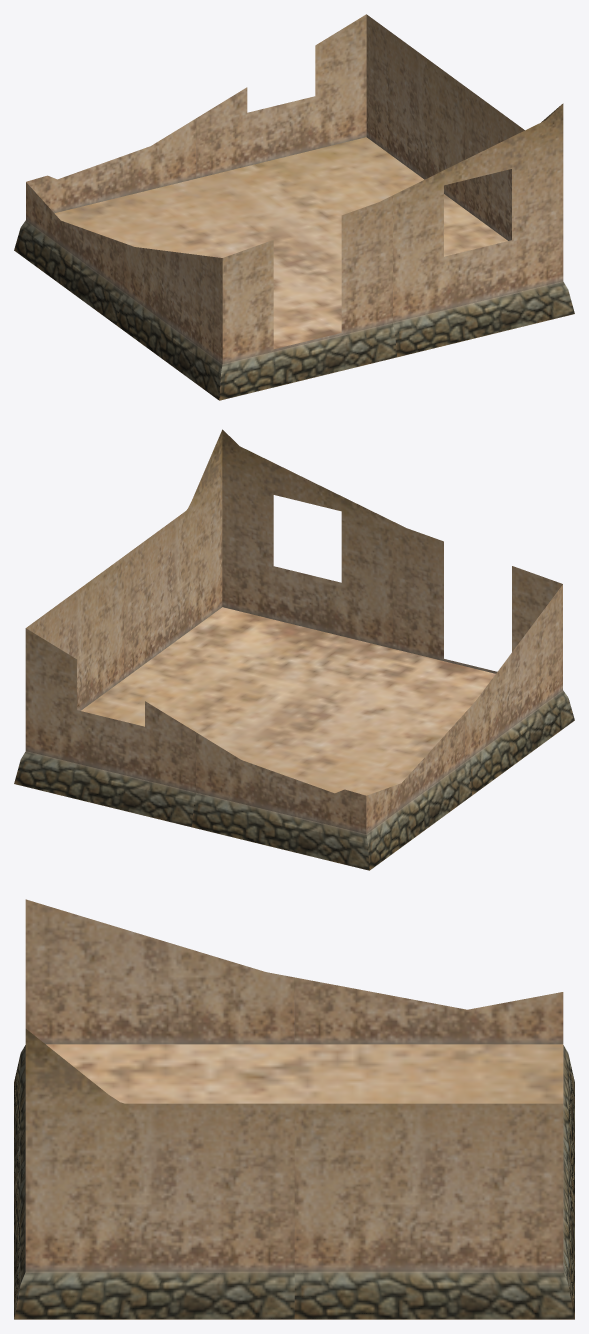
Rendered from s44_b_house_2_1_destroyed_1.dae.
3 renders of one model, top to bottom at view 1: azimuth 30°, elevation 25°; view 2: azimuth 150°, elevation 25°; view 3: azimuth 270°, elevation 25°, orthographic. The views are drawn at different scales.
Visible parts, largest first — view 1: s44_b_house_1_1; view 2: s44_b_house_1_1; view 3: s44_b_house_1_1.
Part boxes in pixels (x1,y1,x2,y2): s44_b_house_1_1: (14,14,574,400); s44_b_house_1_1: (14,429,574,870); s44_b_house_1_1: (14,899,574,1319).
Bounding box in the file's own units: 50.11 × 50.11 × 28.2.
1 material, 1 textured.
